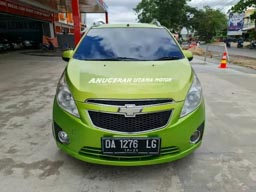plat: (100, 137, 160, 149)
